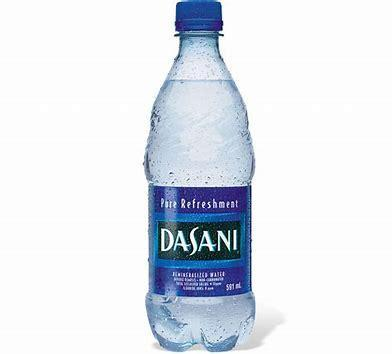bottle: (144, 0, 254, 352)
